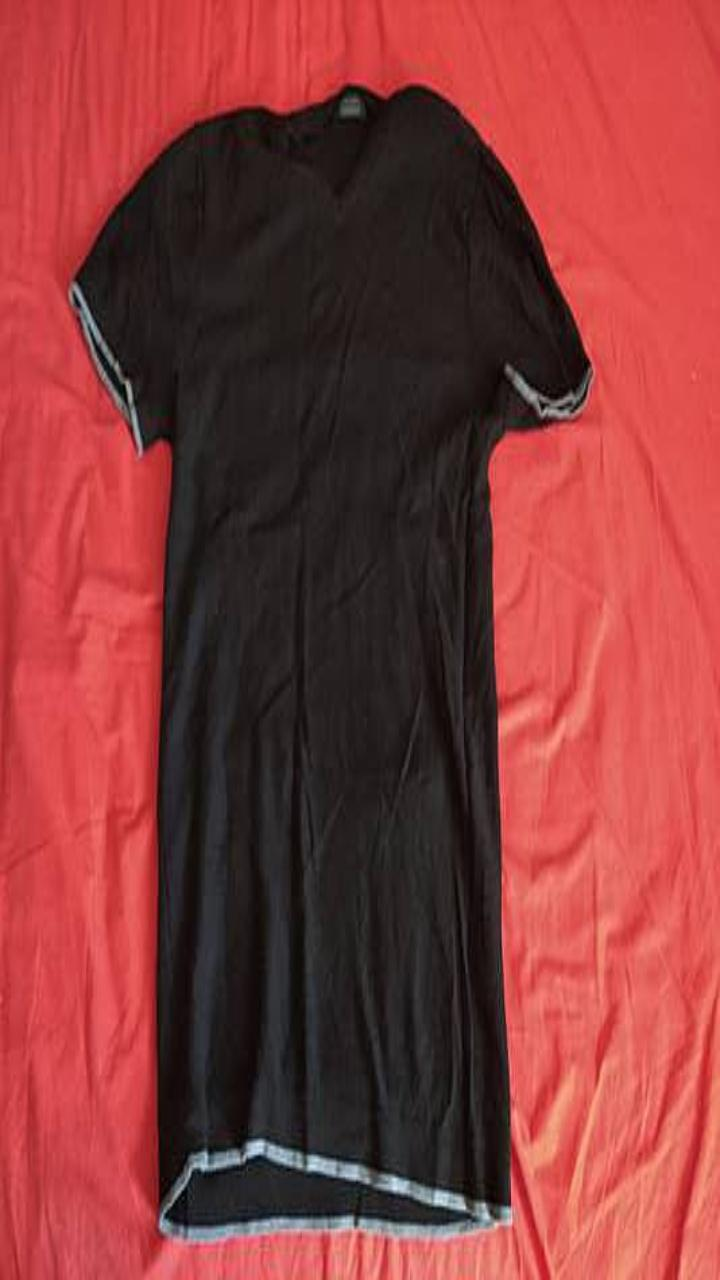T-Shirt: (68, 82, 592, 1239)
